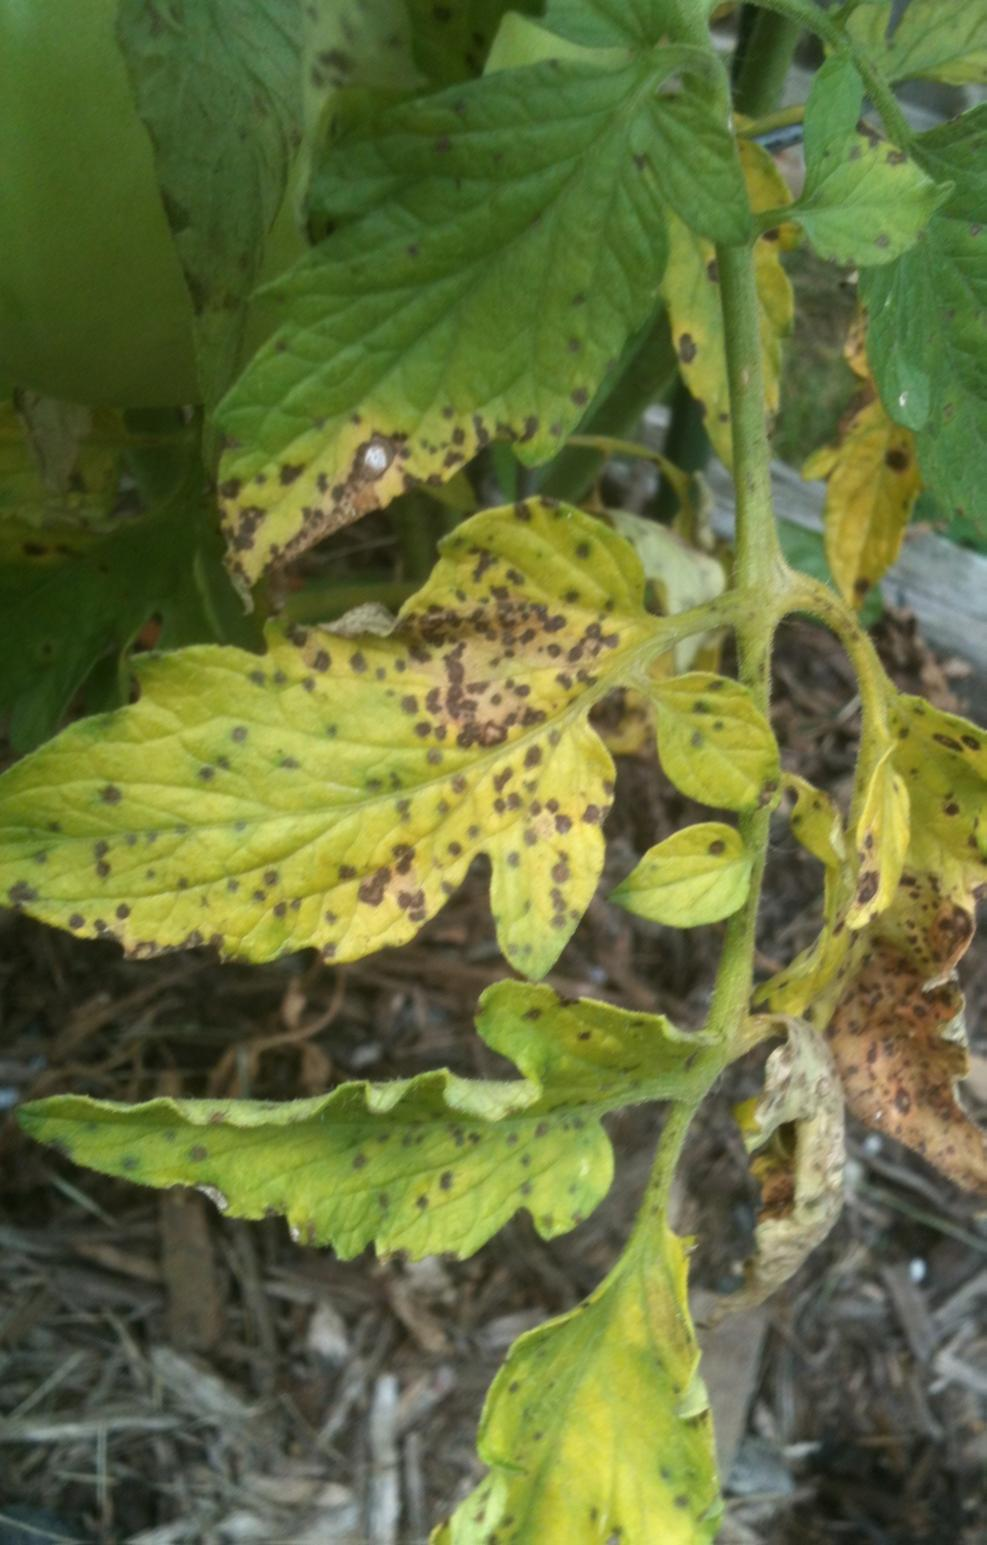Tomato Septoria leaf spot: (0, 507, 674, 1003), (199, 0, 786, 554), (12, 945, 752, 1265), (438, 1221, 754, 1545), (827, 645, 987, 1278)
